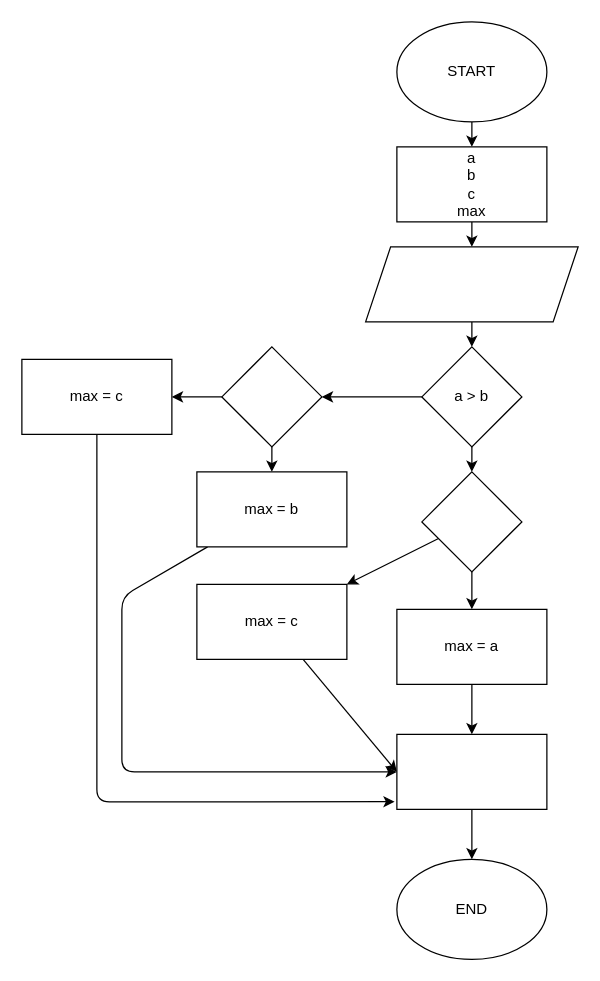
Image size: 600x981. Some labels were removed from this diagram. Here are the shapes that lost their labels. From the top down, the centre of each, then its label:
point (471, 284): "Введите число a:" "Введите число b:" "Введите число c:"
point (271, 396): b > c
point (471, 521): a > c
point (471, 771): Print max
